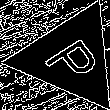P_NE: (35, 28, 104, 87)
